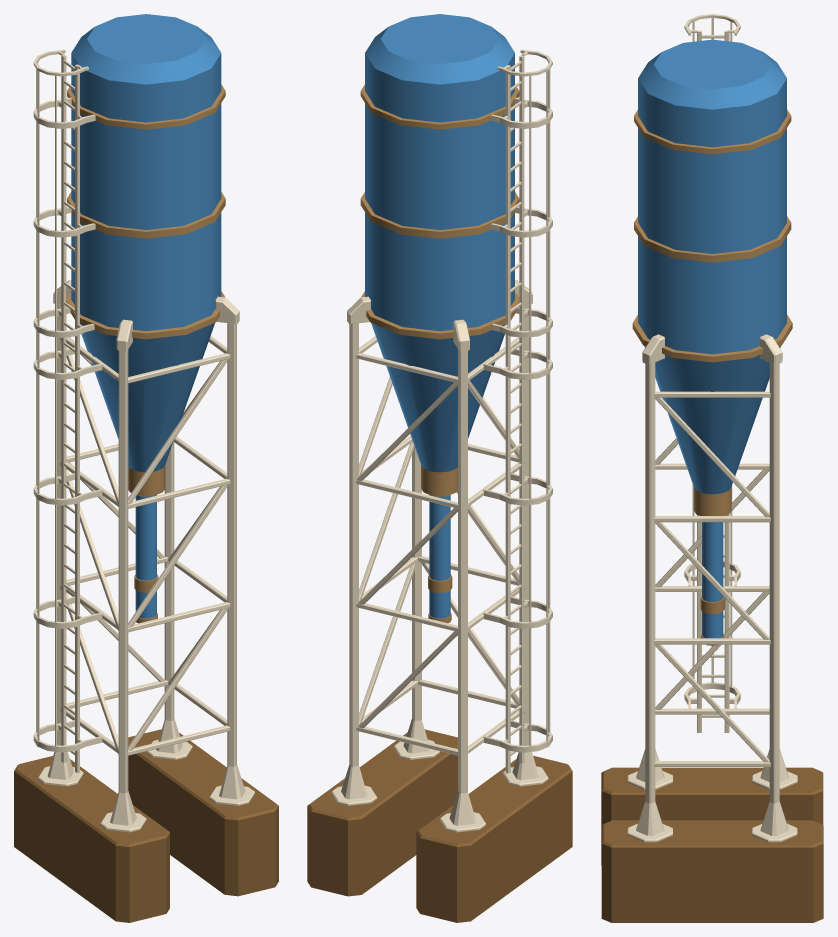
The model's file is farmstractures_23.gltf.
3 views of the same model, side by side, from view 1: azimuth 30°, elevation 25°; view 2: azimuth 150°, elevation 25°; view 3: azimuth 270°, elevation 25° (orthographic).
Parts seen in each view (by area): view 1: body, blades; view 2: body, blades; view 3: body, blades.
Boxes of the visible parts, bbox=[...] form: body: bbox=[14, 14, 278, 922]; blades: bbox=[36, 55, 79, 772]; body: bbox=[307, 14, 572, 922]; blades: bbox=[505, 56, 550, 773]; body: bbox=[601, 14, 823, 922]; blades: bbox=[692, 18, 732, 732].
Bounding box in the file's own units: 2.93 × 12.13 × 2.98.
Materials: 1 (1 with a texture image).
